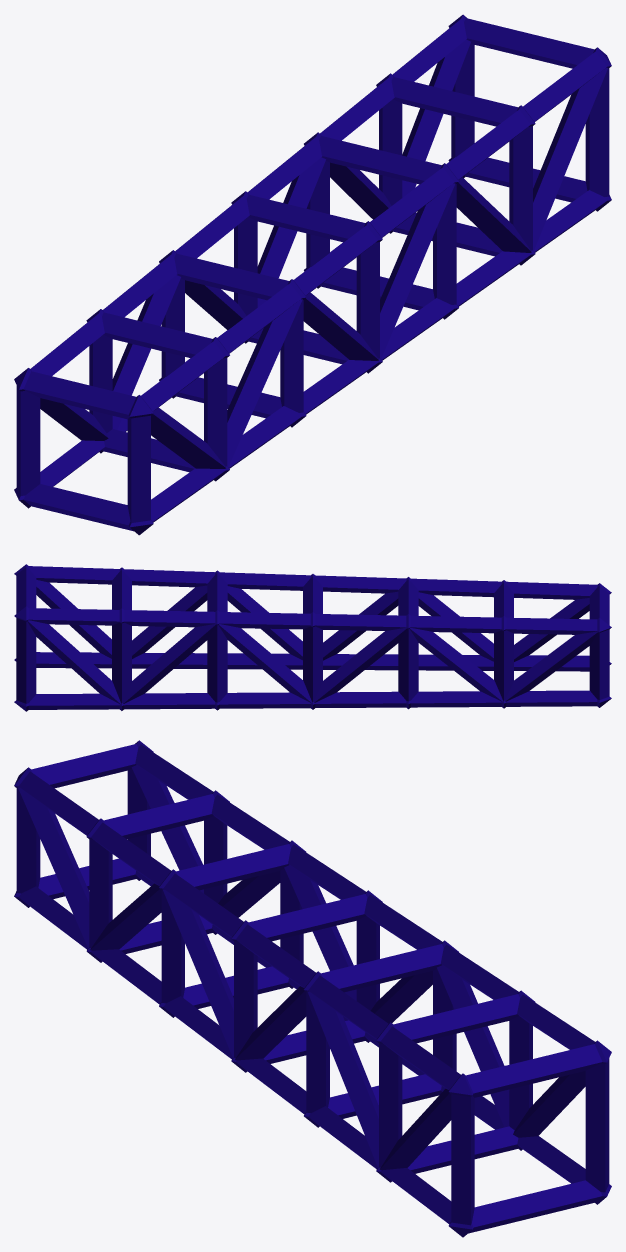
Rendered from Patente_01.FBX.
The picture shows the model from 3 angles, top to bottom: view 1: azimuth 30°, elevation 25°; view 2: azimuth 150°, elevation 25°; view 3: azimuth 270°, elevation 25°; orthographic projection. The views are drawn at different scales.
Visible parts, largest first — view 1: Patente_01; view 2: Patente_01; view 3: Patente_01.
Part boxes in pixels (box(x1,y1,x2,y2)): Patente_01: box(14, 14, 611, 535); Patente_01: box(14, 564, 611, 711); Patente_01: box(14, 740, 611, 1237).
Size of the model in its own units: 548 by 113 by 374.
